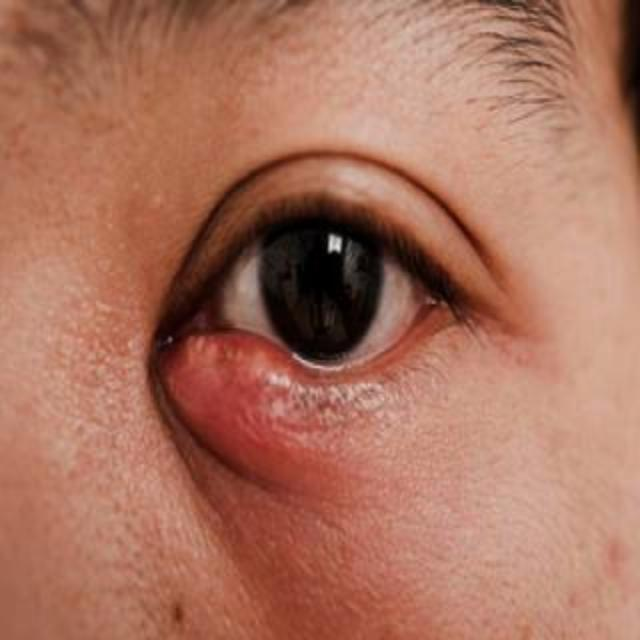Stye: (143, 310, 330, 448)
